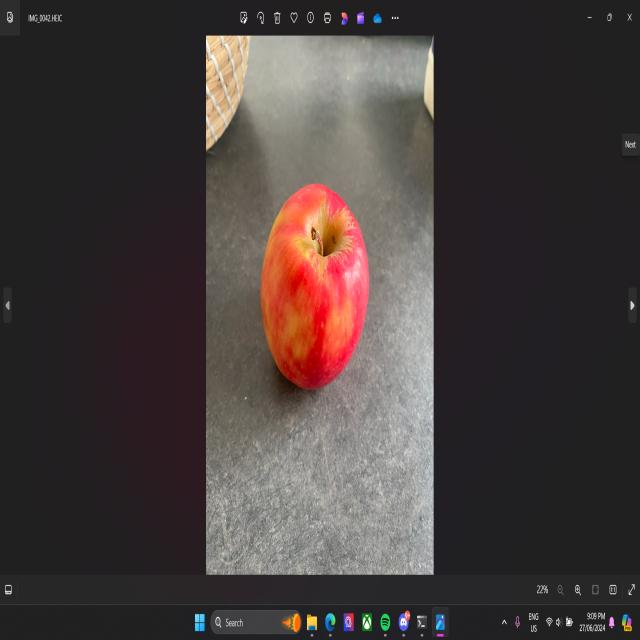Apple: (261, 184, 369, 389)
